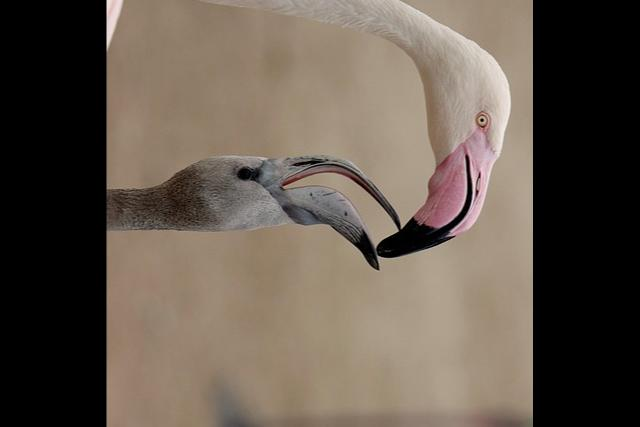Non_Gorille: (114, 0, 528, 296)
